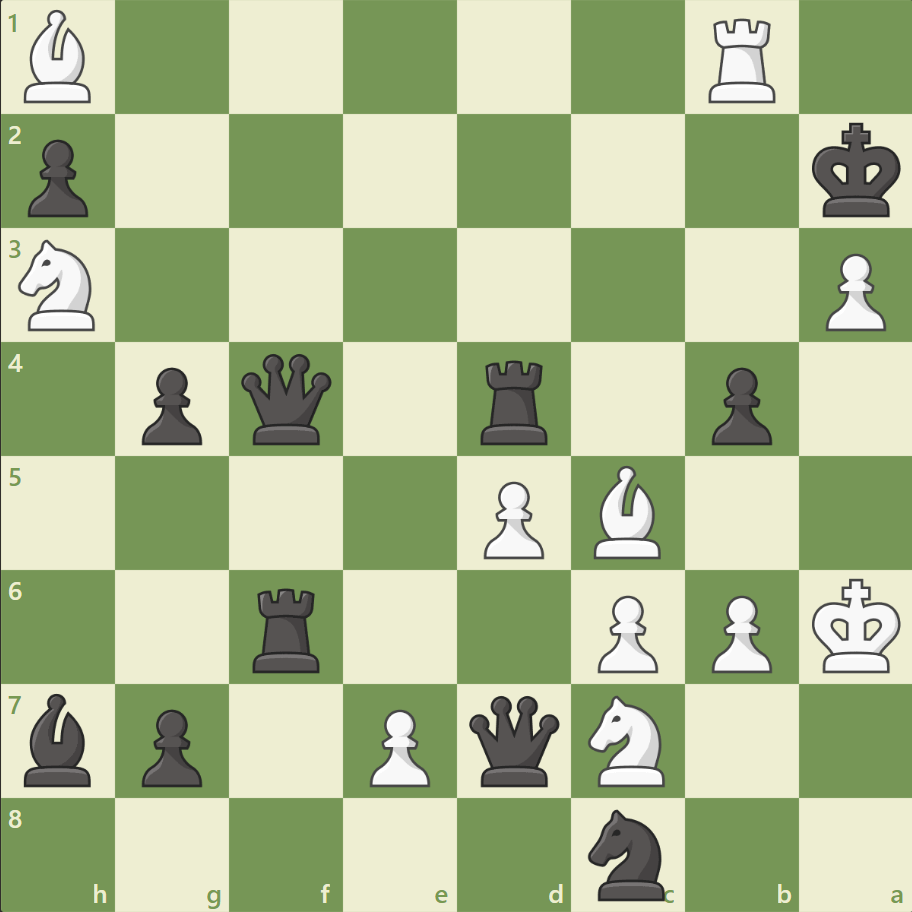B: (585, 460, 669, 563), (17, 6, 101, 109)
K: (806, 571, 906, 679)
N: (579, 688, 676, 791), (11, 234, 108, 337)
P: (701, 586, 776, 677), (474, 473, 549, 564), (361, 700, 435, 791), (588, 586, 662, 677), (815, 246, 889, 337)
R: (700, 12, 783, 109)
b: (17, 687, 101, 790)
k: (806, 117, 906, 225)
n: (579, 802, 676, 904)
p: (133, 700, 208, 791), (701, 359, 776, 450), (133, 359, 208, 450), (20, 132, 95, 223)
q: (237, 349, 336, 449), (464, 690, 563, 789)
r: (246, 579, 329, 676), (473, 352, 556, 449)
